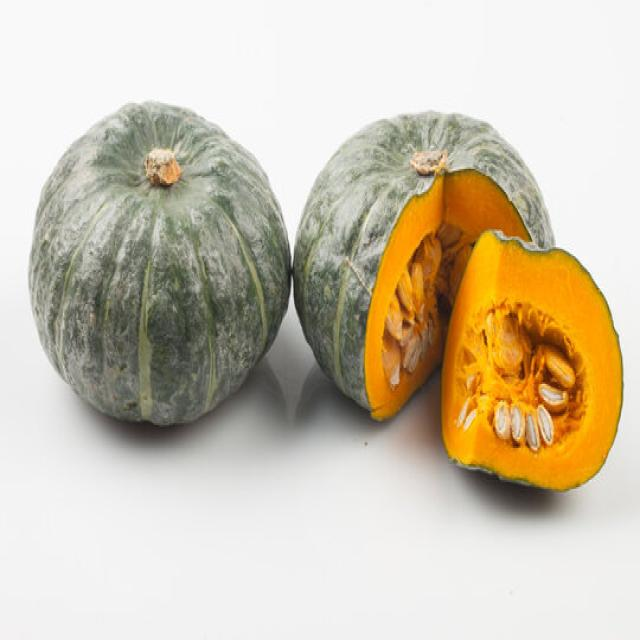Pumpkin: (27, 98, 292, 426), (292, 107, 554, 421), (440, 228, 623, 490)
